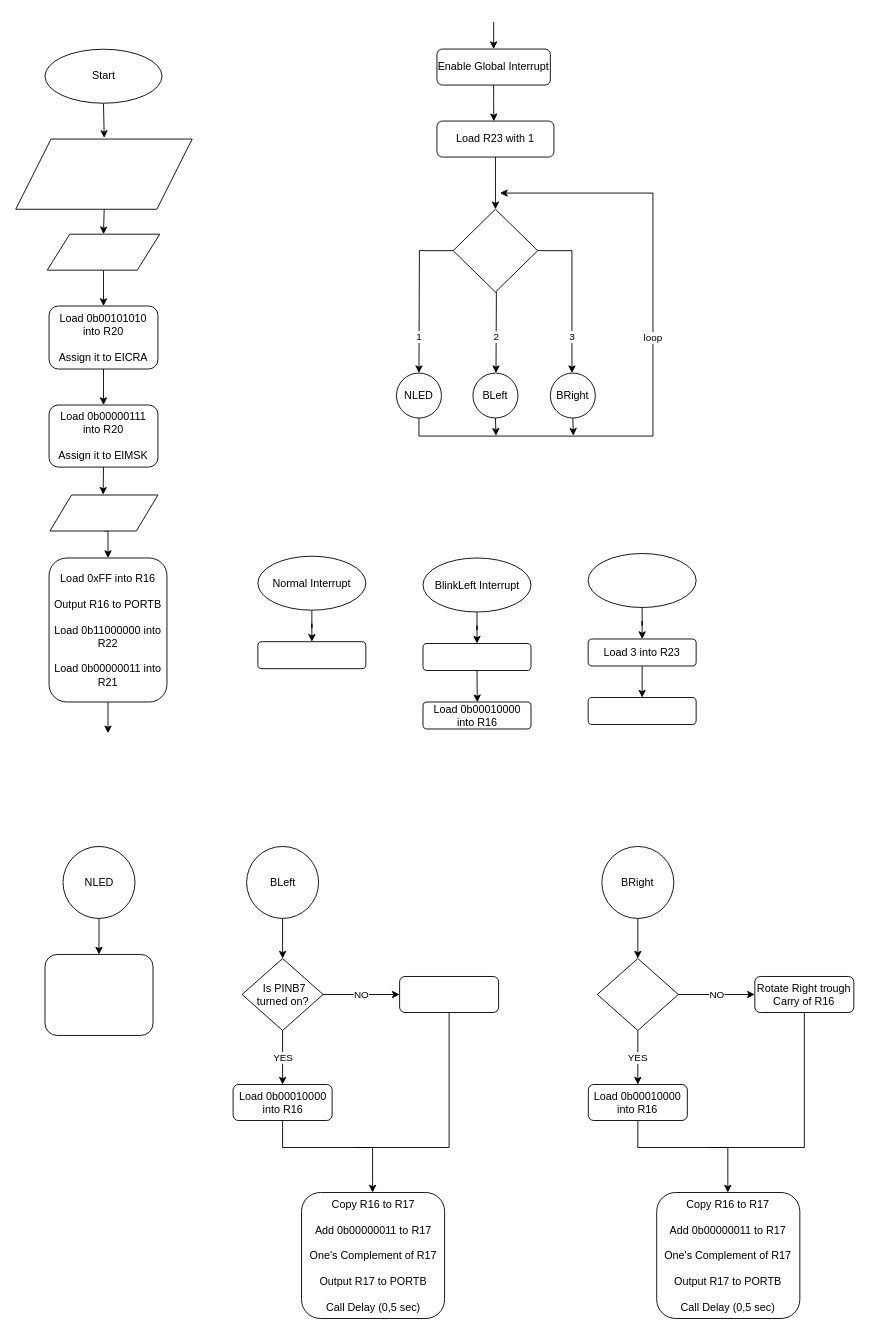
Image size: 870x1335. Some labels were removed from this diagram. The shapes that lost their labels are listed below. From the top down, each one's centre as x and y in pixels, then its label:
At pixel 103 173: "Set up interrupt addresses INT0 - BlinkRight INT1 - Normal INT2 - BlinkLeft".
At pixel 103 251: "Initialise Stack (R20)".
At pixel 495 250: "What is R23 value?".
At pixel 103 512: "PORTB ouput PORTD input".
At pixel 641 580: "BlinkRight Interrupt".
At pixel 311 655: "Load 1 into R23".
At pixel 476 656: "Load 2 into R23".
At pixel 641 710: "Load 0b00001000 into R16".
At pixel 98 994: "Load 0b00111100 into R16 Output R16 to PORTB".
At pixel 449 994: "Rotate Left trough Carry of R16".
At pixel 637 994: "Is PINB0 turned on?".
